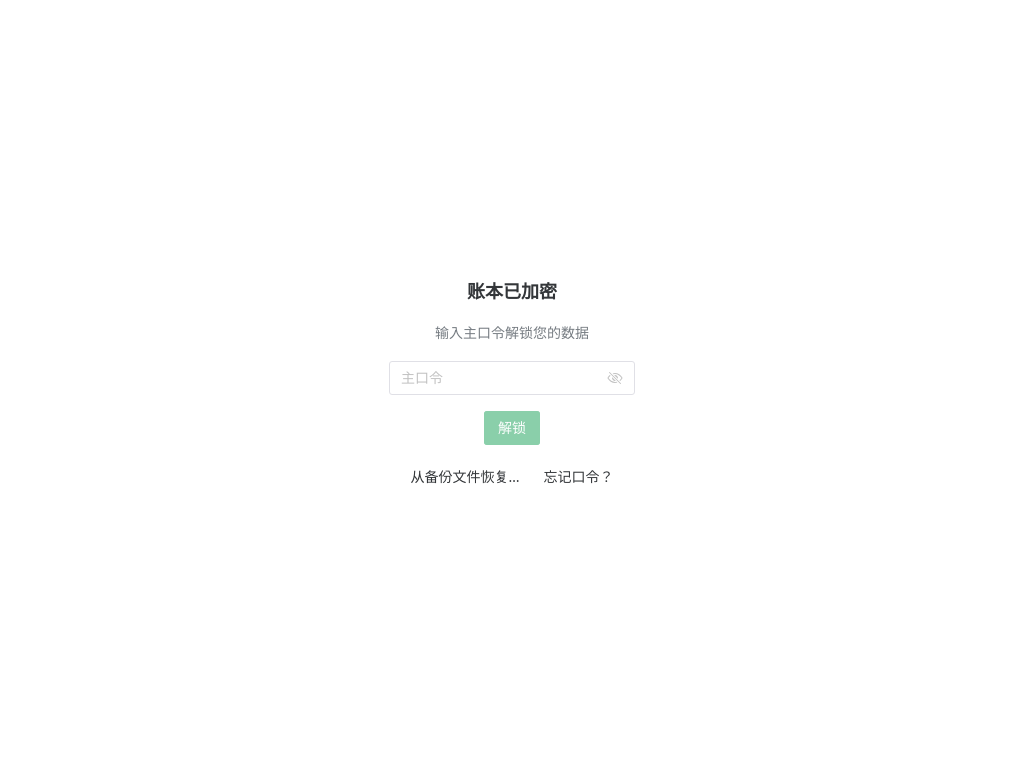
Test: UnlockScreen.vue（加密锁定门·解锁屏流程） › 解锁遇 boot.schema-drift：结构异常专属文案按码呈现，不与口令错误/库损坏混用，逃生门可达（issue #994）
Type "口令" into the password field with placeholder "主口令" at [502, 378], box [401,361,603,395]
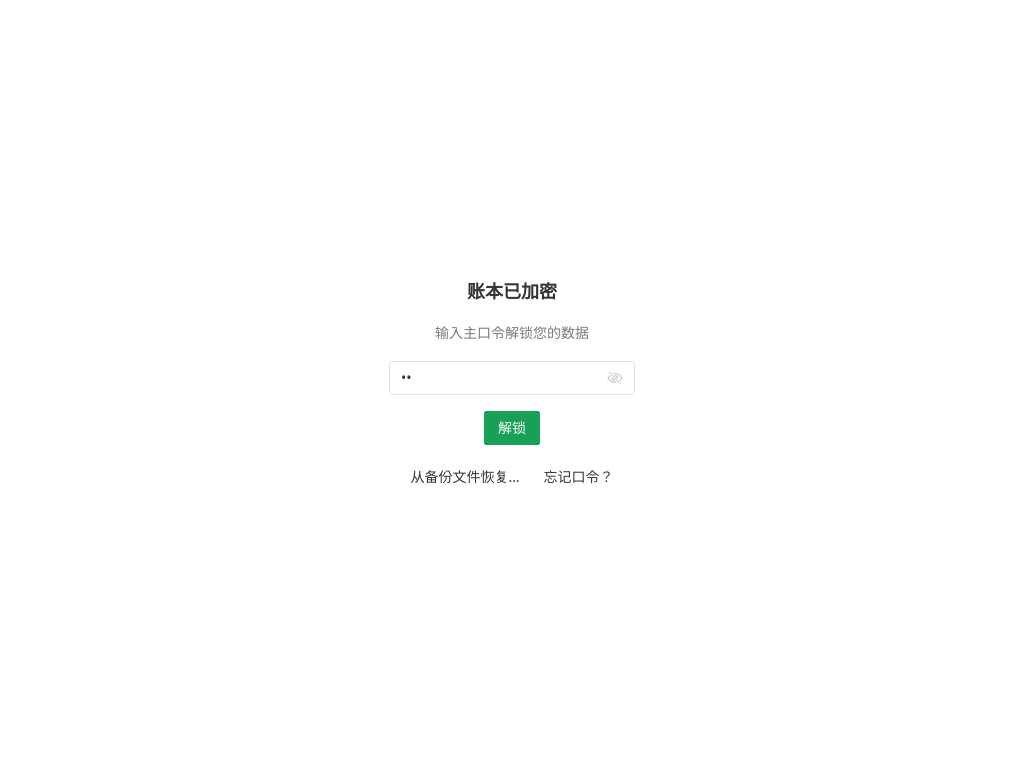
Click the button "解锁" at [512, 428], box [484,411,540,445]
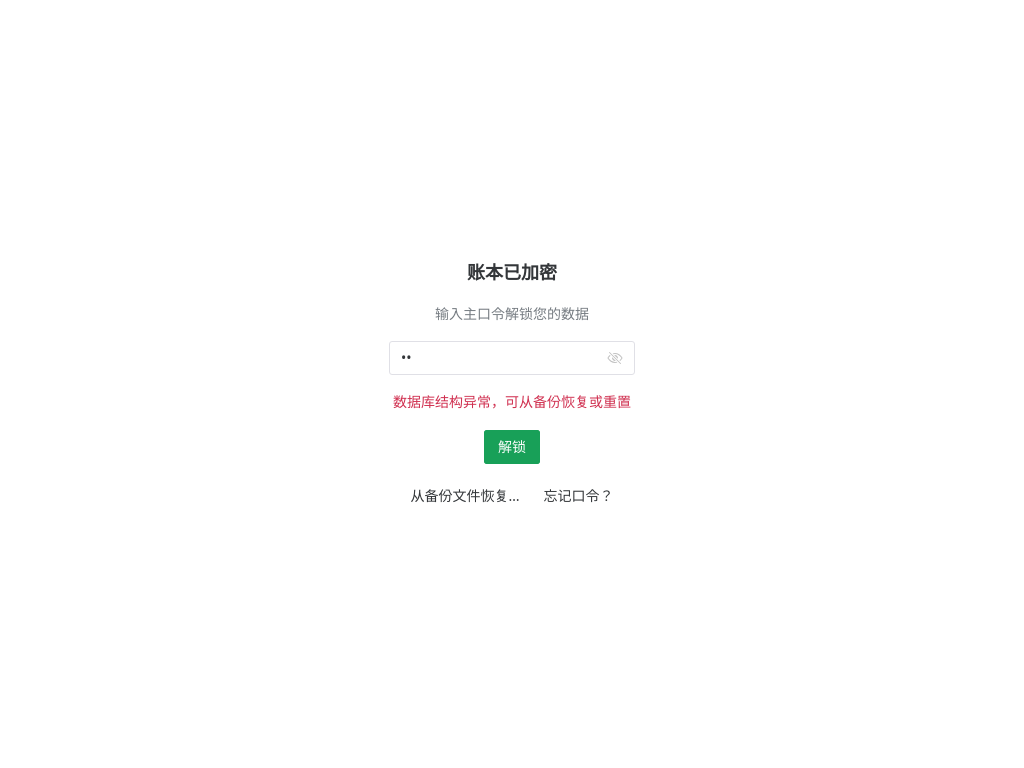
Expected: the button "从备份文件恢复…" is shown, [400,482,530,510]
Expected: the text "数据库结构异常，可从备份恢复或重置" is shown, [393,392,631,411]
